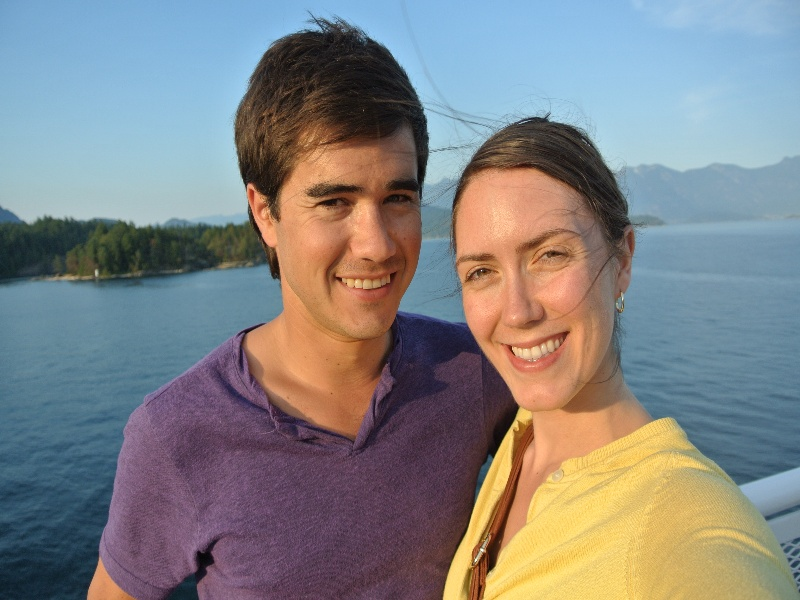face: (444, 168, 636, 421), (254, 108, 432, 345)
